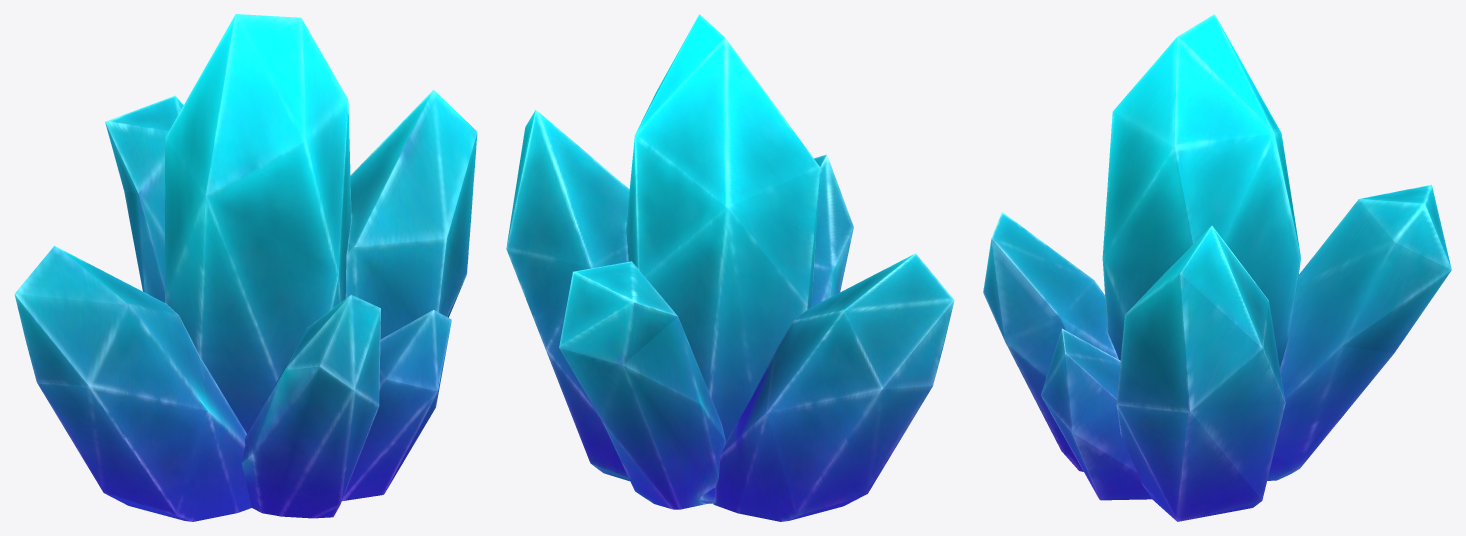
3 renders of one model, left to right at view 1: azimuth 30°, elevation 25°; view 2: azimuth 150°, elevation 25°; view 3: azimuth 270°, elevation 25°, orthographic. The views are drawn at different scales.
Parts seen in each view (by area): view 1: crystals; view 2: crystals; view 3: crystals.
Boxes of the visible parts, x1,y1,x2,y2 form: crystals: [14, 14, 477, 521]; crystals: [506, 14, 954, 521]; crystals: [983, 14, 1451, 521].
Bounding box in the file's own units: 505 × 490 × 469.
1 material, 1 textured.
